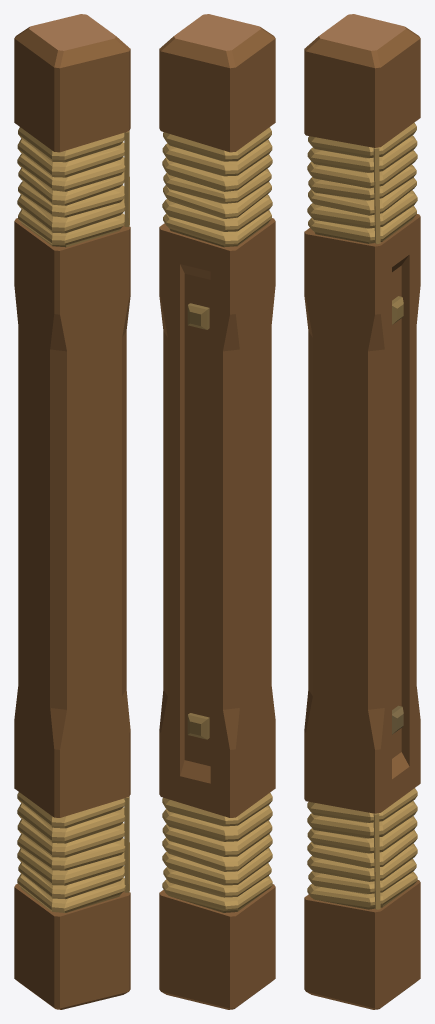
File: structural-corner-joint-shoe-47be8d.glb
3 renders of one model, left to right at view 1: azimuth 30°, elevation 25°; view 2: azimuth 150°, elevation 25°; view 3: azimuth 330°, elevation 25°, orthographic.
Visible parts, largest first — view 1: column; view 2: column; view 3: column.
Part boxes in pixels (x1,y1,x2,y2): column: (14,14,130,1009); column: (159,14,275,1009); column: (304,14,420,1009).
Size of the model in its own units: 0.25 by 2.98 by 0.25.
